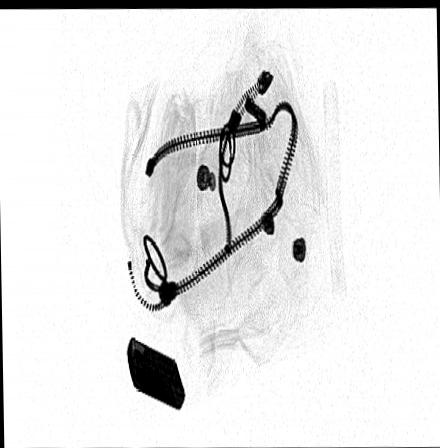Lighter: (125, 333, 187, 409)
